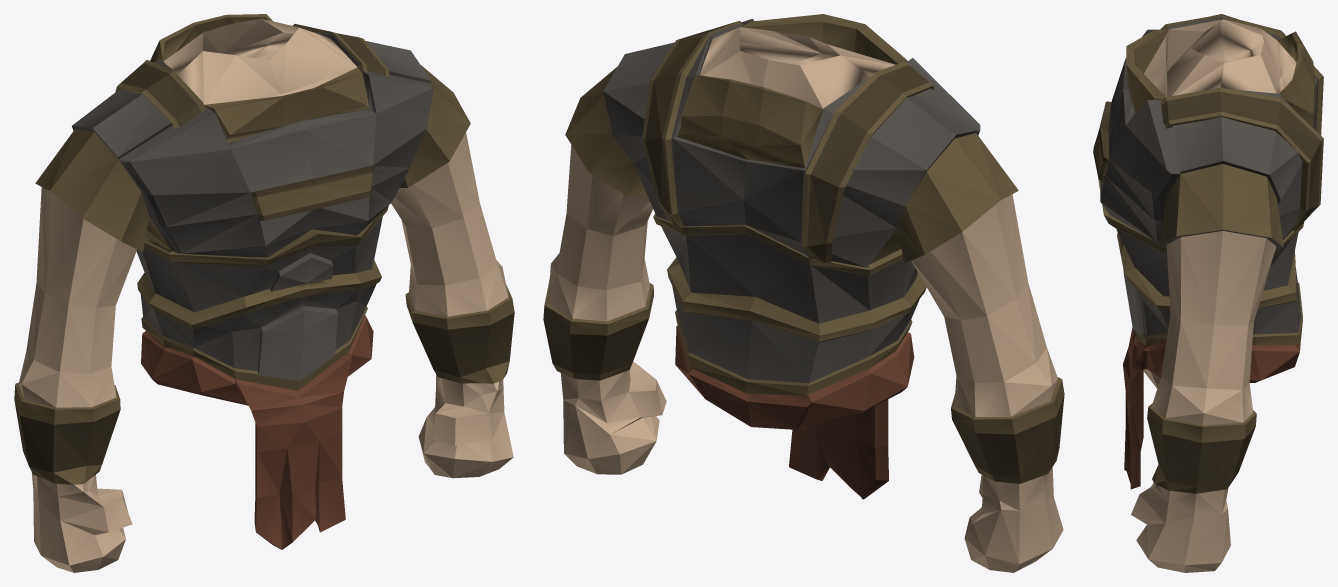
The model's file is RareBeasthunterChestplate.dae.
3 views of the same model, side by side, from view 1: azimuth 30°, elevation 25°; view 2: azimuth 150°, elevation 25°; view 3: azimuth 270°, elevation 25° (orthographic). The views are drawn at different scales.
Visible parts, largest first — view 1: Chest; view 2: Chest; view 3: Chest.
Boxes of the visible parts, left/top/right/bottom form: Chest: left=14, top=14, right=514, bottom=572; Chest: left=543, top=14, right=1064, bottom=572; Chest: left=1093, top=14, right=1323, bottom=572.
Bounding box in the file's own units: 5.26 × 2.3 × 4.85.
